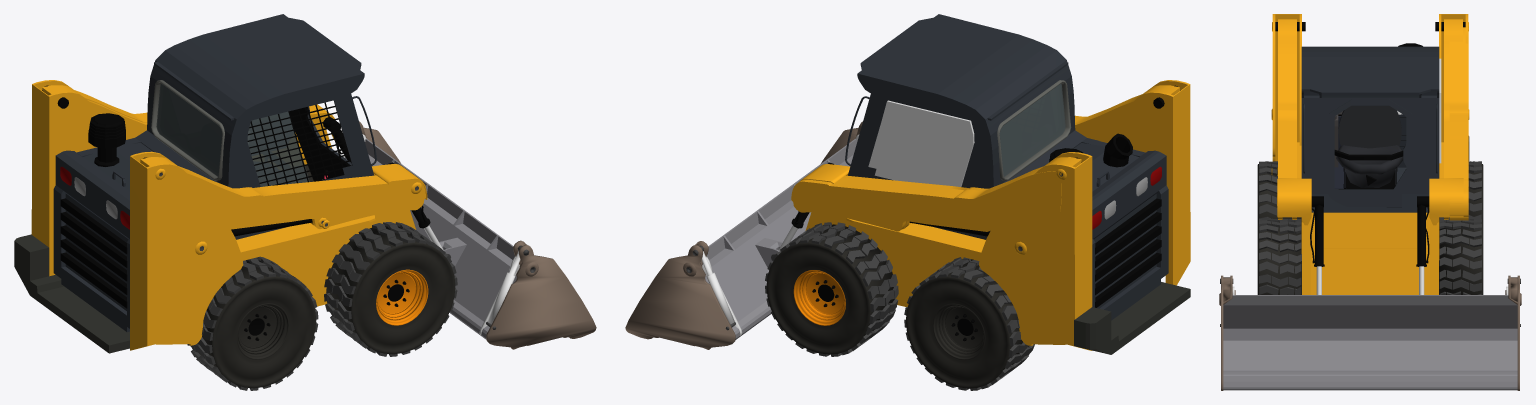
The model's file is ConstructionVehicle.dae.
3 views of the same model, side by side, from view 1: azimuth 30°, elevation 25°; view 2: azimuth 150°, elevation 25°; view 3: azimuth 270°, elevation 25° (orthographic). The views are drawn at different scales.
Parts seen in each view (by area): view 1: Body, Side_Panel.002, Wheel.000, Wheel.003, Shovel_Edge, Shovel.001, Side_Panel.001, Side_Grid, Cube.002, Fan_Blocks, Glass.001, Glass.002 (+4 smaller); view 2: Body, Side_Panel.001, Wheel.002, Wheel.001, Panel_Joint.001, Side_Panel.002, Shovel_Edge, Shovel.001, Cube.001, Fan_Blocks, Cube.002, Glass.001 (+4 smaller); view 3: Shovel.001, Body, Side_Panel.002, Plane.004, Wheel.000, Wheel.002, Panel_Joint.001, Side_Panel.001, Shovel_Edge, Wheel.003, Wheel.001, Cylinder.003 (+4 smaller).
Boxes of the visible parts, x1=… form: Body: x1=53, y1=14, x2=415, y2=332; Side_Panel.002: x1=130, y1=151, x2=427, y2=350; Wheel.000: x1=324, y1=222, x2=457, y2=356; Wheel.003: x1=187, y1=256, x2=318, y2=390; Shovel_Edge: x1=337, y1=121, x2=596, y2=349; Shovel.001: x1=345, y1=138, x2=568, y2=339; Side_Panel.001: x1=31, y1=80, x2=334, y2=276; Side_Grid: x1=247, y1=102, x2=350, y2=186; Cube.002: x1=14, y1=234, x2=129, y2=353; Fan_Blocks: x1=60, y1=198, x2=127, y2=308; Glass.001: x1=156, y1=83, x2=222, y2=176; Glass.002: x1=158, y1=85, x2=221, y2=175; Body: x1=805, y1=14, x2=1168, y2=320; Side_Panel.001: x1=799, y1=152, x2=1092, y2=350; Wheel.002: x1=765, y1=222, x2=898, y2=356; Wheel.001: x1=904, y1=257, x2=1034, y2=390; Panel_Joint.001: x1=791, y1=167, x2=1061, y2=231; Side_Panel.002: x1=1075, y1=80, x2=1190, y2=285; Shovel_Edge: x1=625, y1=121, x2=862, y2=349; Shovel.001: x1=653, y1=139, x2=856, y2=339; Cube.001: x1=868, y1=100, x2=974, y2=186; Fan_Blocks: x1=1095, y1=198, x2=1161, y2=307; Cube.002: x1=1074, y1=282, x2=1190, y2=354; Glass.001: x1=999, y1=83, x2=1065, y2=176; Shovel.001: x1=1223, y1=295, x2=1517, y2=390; Body: x1=1297, y1=46, x2=1443, y2=294; Side_Panel.002: x1=1271, y1=14, x2=1311, y2=225; Plane.004: x1=1336, y1=105, x2=1403, y2=188; Wheel.000: x1=1257, y1=219, x2=1301, y2=294; Wheel.002: x1=1439, y1=218, x2=1483, y2=294; Panel_Joint.001: x1=1449, y1=27, x2=1468, y2=220; Side_Panel.001: x1=1429, y1=14, x2=1469, y2=225; Shovel_Edge: x1=1219, y1=275, x2=1521, y2=390; Wheel.003: x1=1257, y1=161, x2=1301, y2=221; Wheel.001: x1=1439, y1=161, x2=1483, y2=221; Cylinder.003: x1=1311, y1=196, x2=1324, y2=294.
Size of the model in its own units: 9.47 by 6.69 by 5.59.
